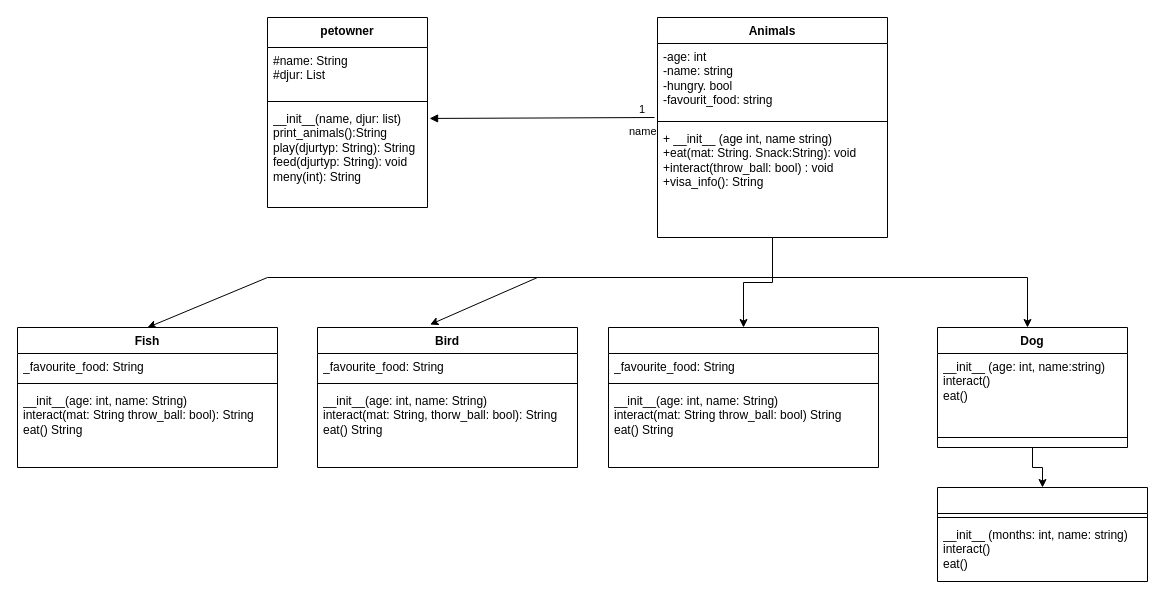
Some shapes in this 1165 by 602 pixel diagram are drawn without their labels. The shapes that lost their labels are listed below. From the top down, each one's box as (x1, y1, x2, y2) in pixels, then its label:
(608, 326, 878, 468): Cat
(936, 486, 1148, 582): Puppy
